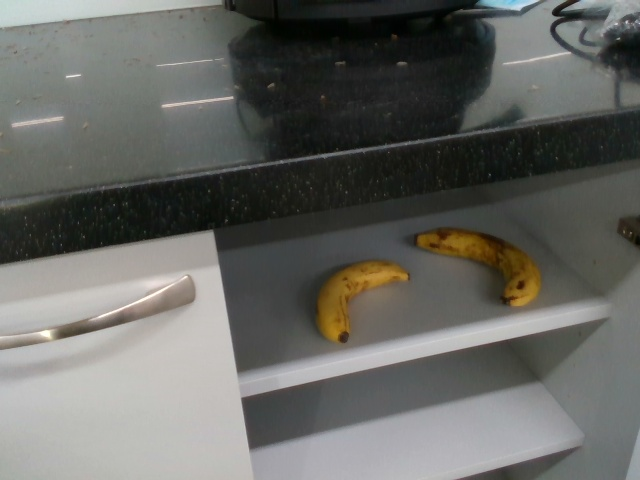banana: (416, 226, 541, 308), (308, 260, 409, 344)
